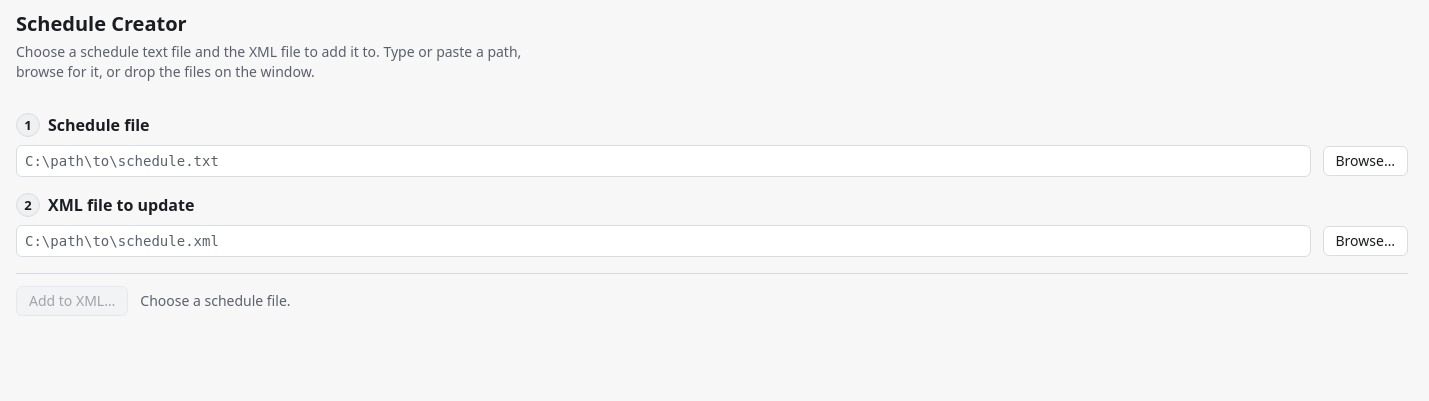
Test: an unknown rejection claims nothing about the files
This screenshot has width=1429, height=401.
Check: the field labelled "Schedule file" is shown, box 16,145 -> 1310,177
Click the button with aria-label "Browse for the XML file".
click(1365, 241)  # box 1322,226 -> 1408,256
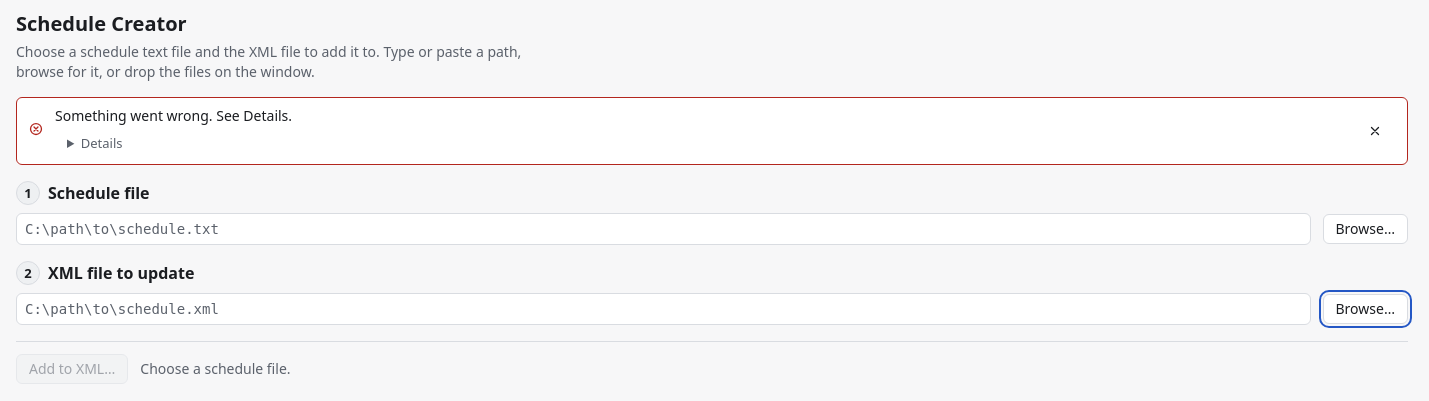
Check: the message shows "Something went wrong. See Details.", box 55,106 -> 292,125
